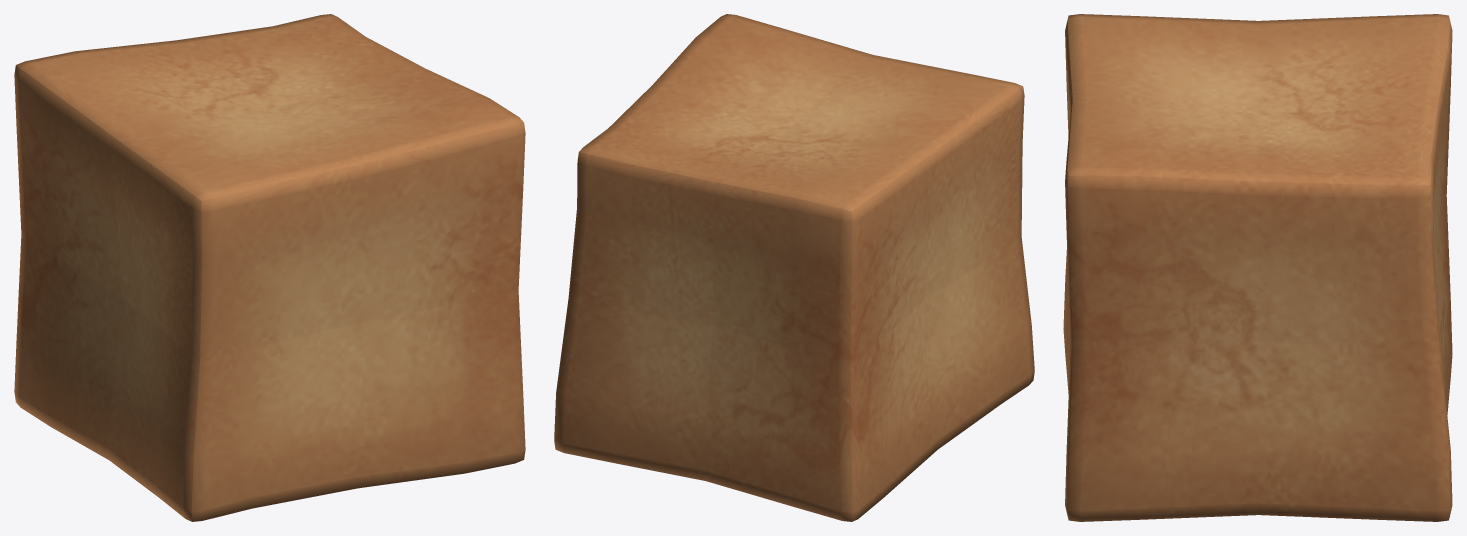
Rendered from tofu.fbx.
The picture shows the model from 3 angles, left to right: view 1: azimuth 30°, elevation 25°; view 2: azimuth 150°, elevation 25°; view 3: azimuth 270°, elevation 25°; orthographic projection. The views are drawn at different scales.
Parts seen in each view (by area): view 1: Tofu; view 2: Tofu; view 3: Tofu.
Boxes of the visible parts, bbox=[...] form: Tofu: bbox=[14, 14, 525, 521]; Tofu: bbox=[554, 14, 1034, 521]; Tofu: bbox=[1063, 14, 1452, 521].
Size of the model in its own units: 199 by 193 by 194.
